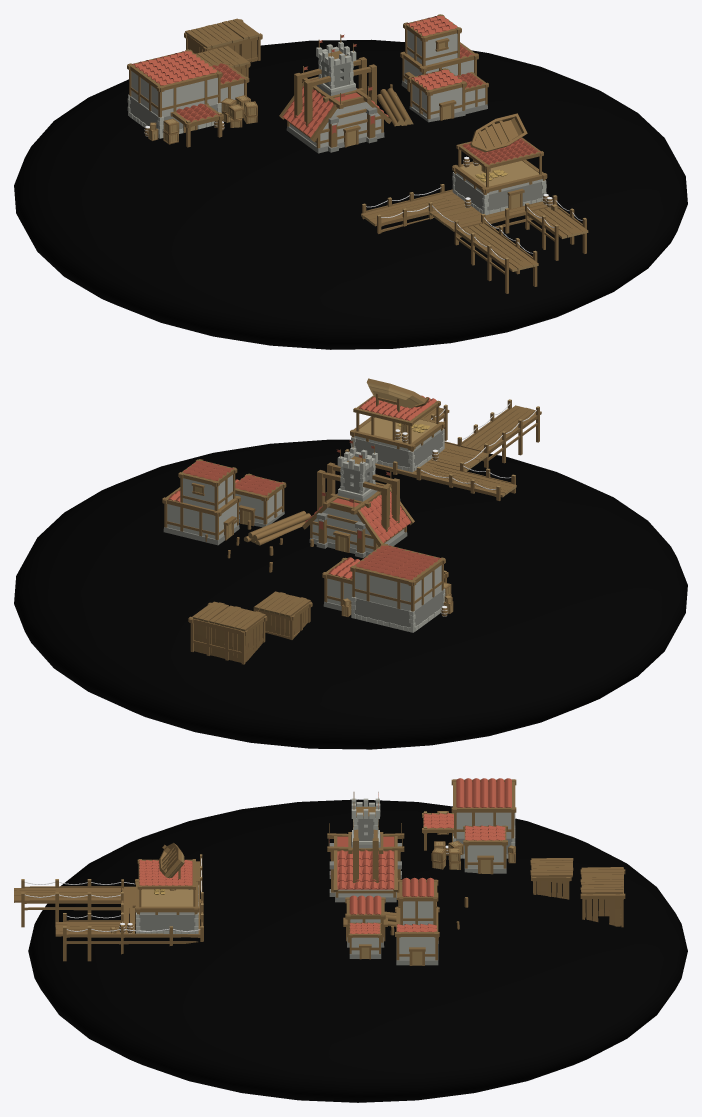
3 renders of one model, top to bottom at view 1: azimuth 30°, elevation 25°; view 2: azimuth 150°, elevation 25°; view 3: azimuth 270°, elevation 25°, orthographic. The views are drawn at different scales.
Visible parts, largest first — view 1: Houses_SecondAge_3_Level3; view 2: Houses_SecondAge_3_Level3; view 3: Houses_SecondAge_3_Level3.
Part boxes in pixels (left/top/right/bottom): Houses_SecondAge_3_Level3: left=14, top=14, right=687, bottom=349; Houses_SecondAge_3_Level3: left=14, top=378, right=687, bottom=749; Houses_SecondAge_3_Level3: left=14, top=778, right=687, bottom=1102.
Bounding box in the file's own units: 1000 × 350 × 1022.
